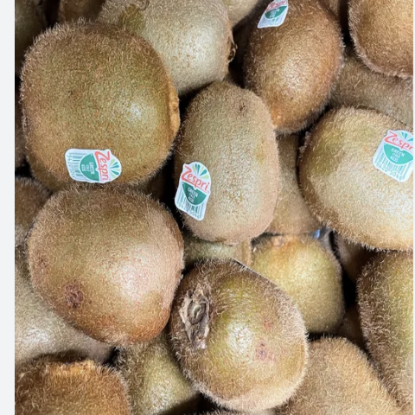kiwi: (17, 20, 193, 204), (24, 168, 200, 348), (141, 265, 332, 412), (169, 77, 297, 262), (299, 87, 415, 256)
